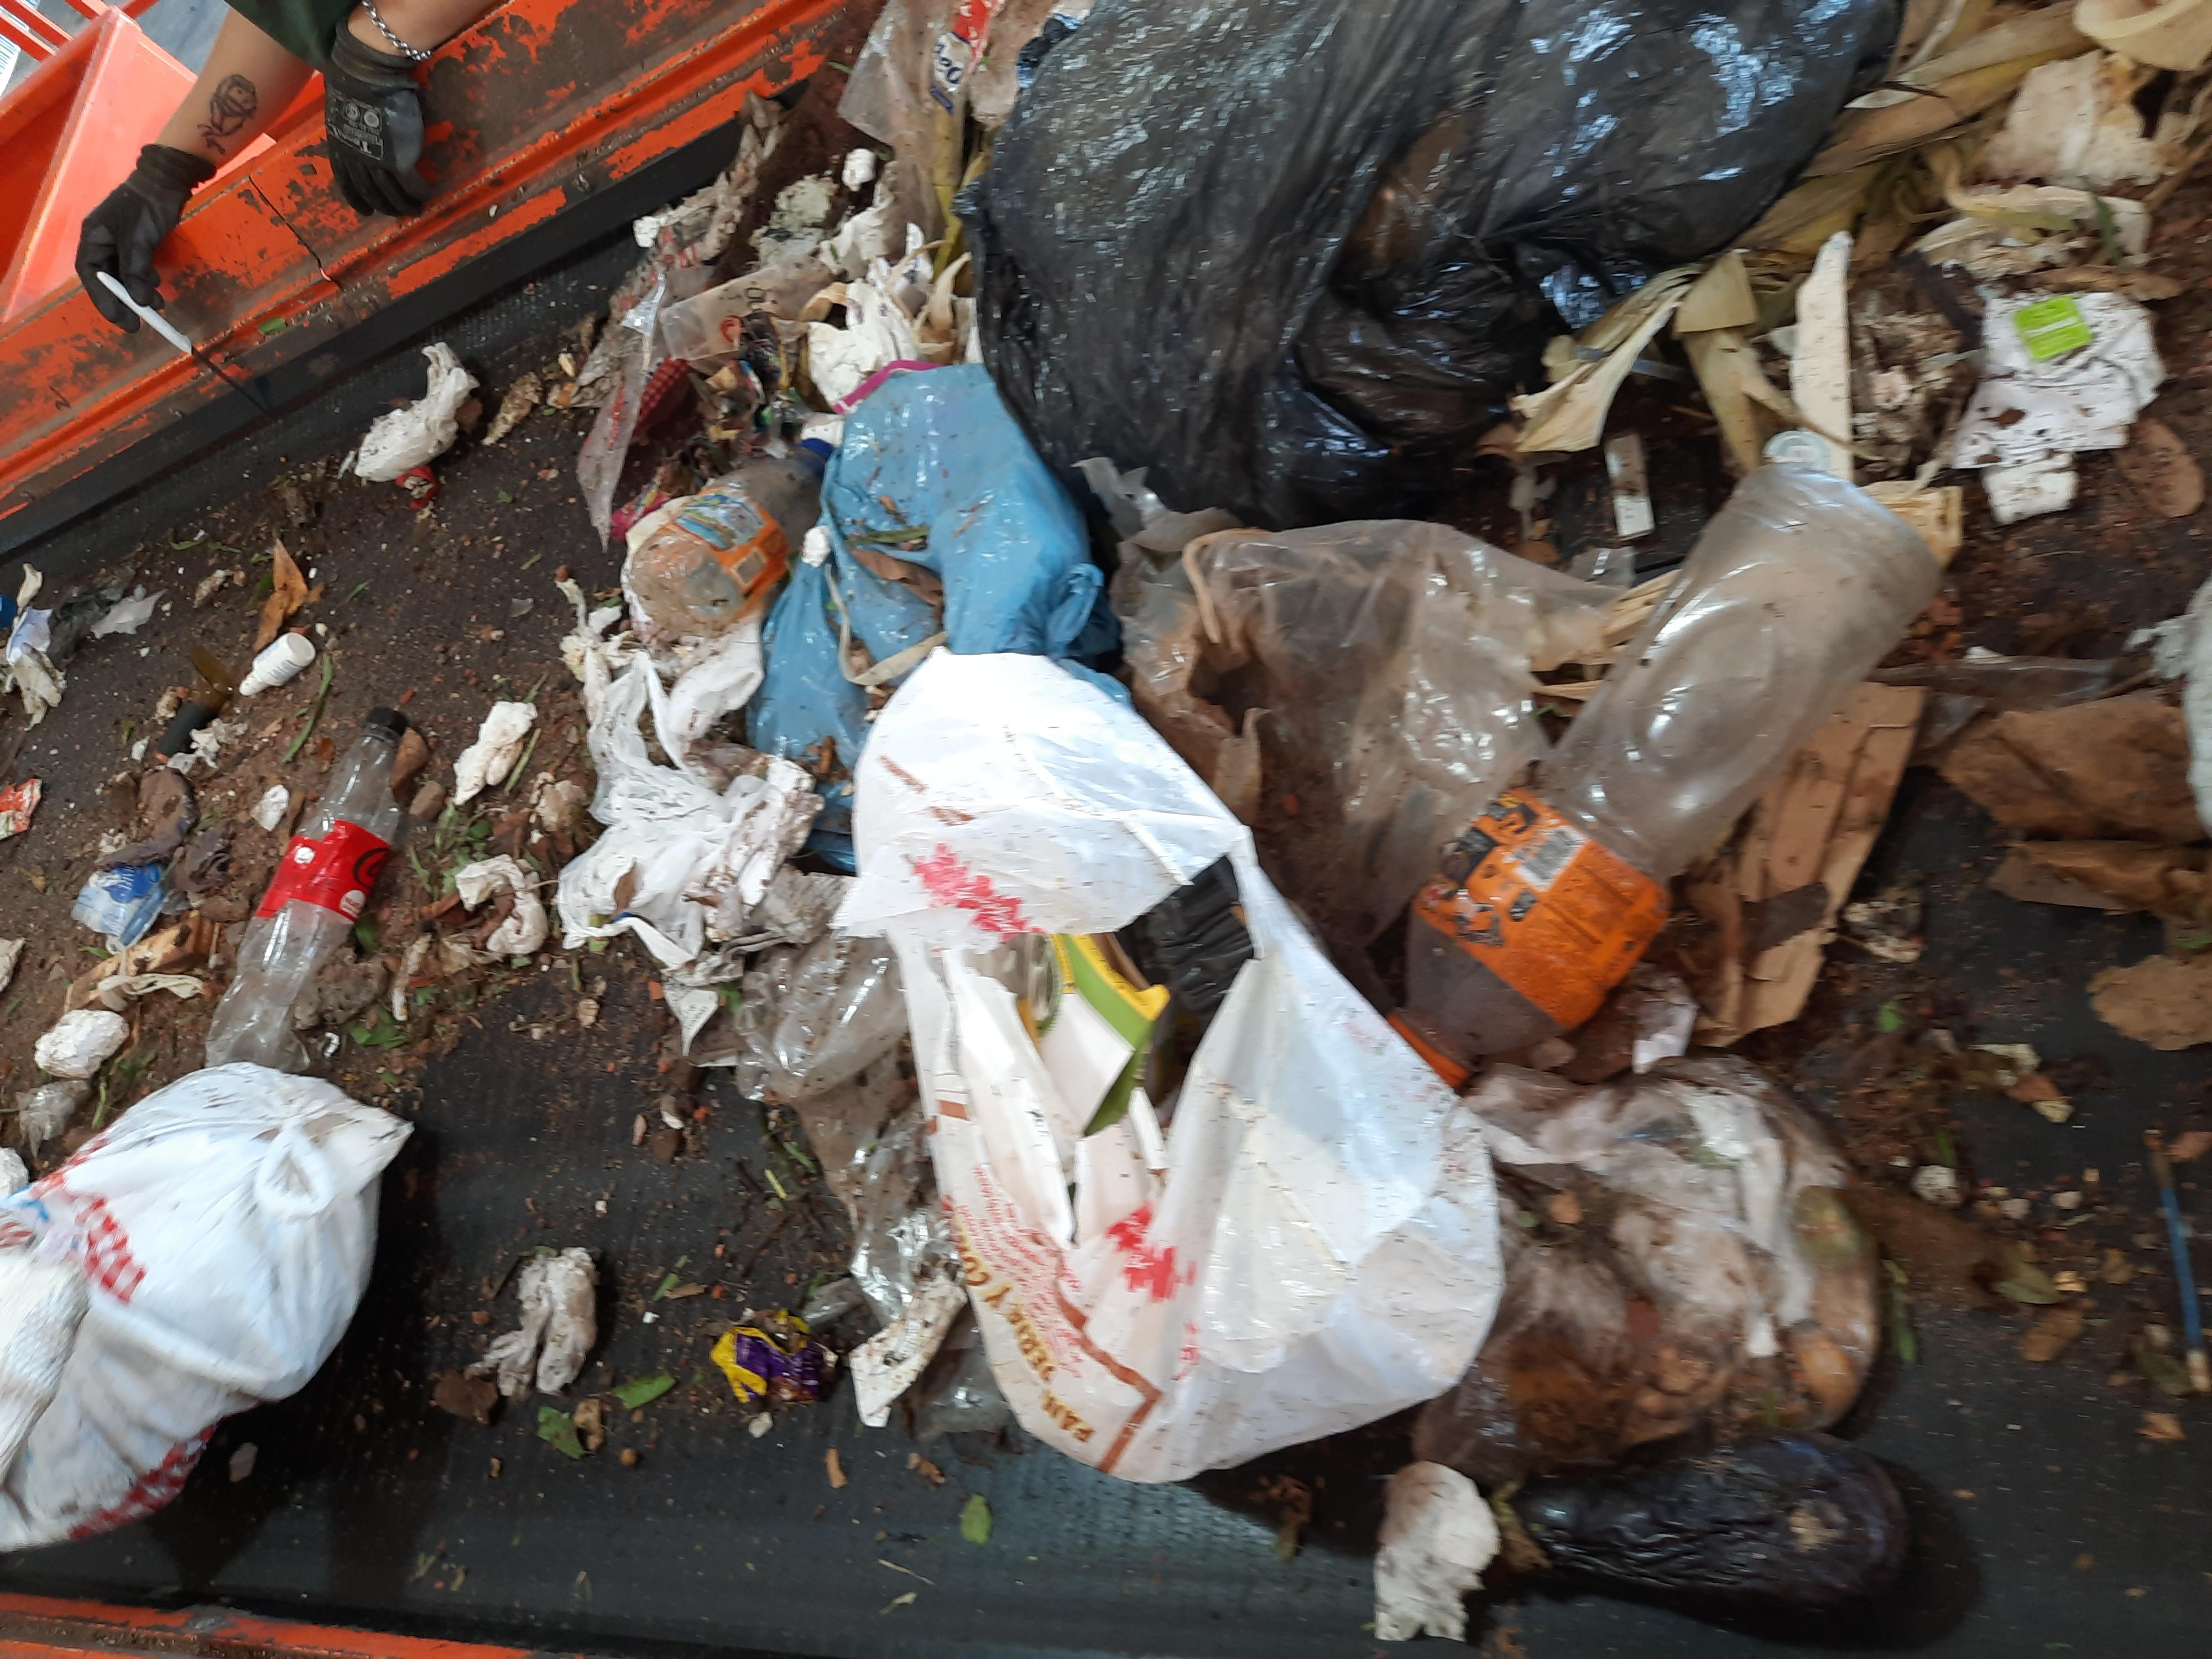bottle: (745, 0, 1653, 230), (759, 134, 1275, 328)
